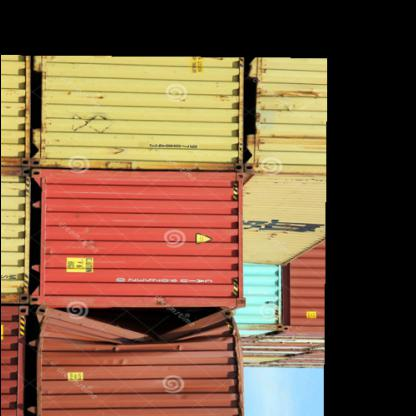Damage: (46, 275, 220, 351)
